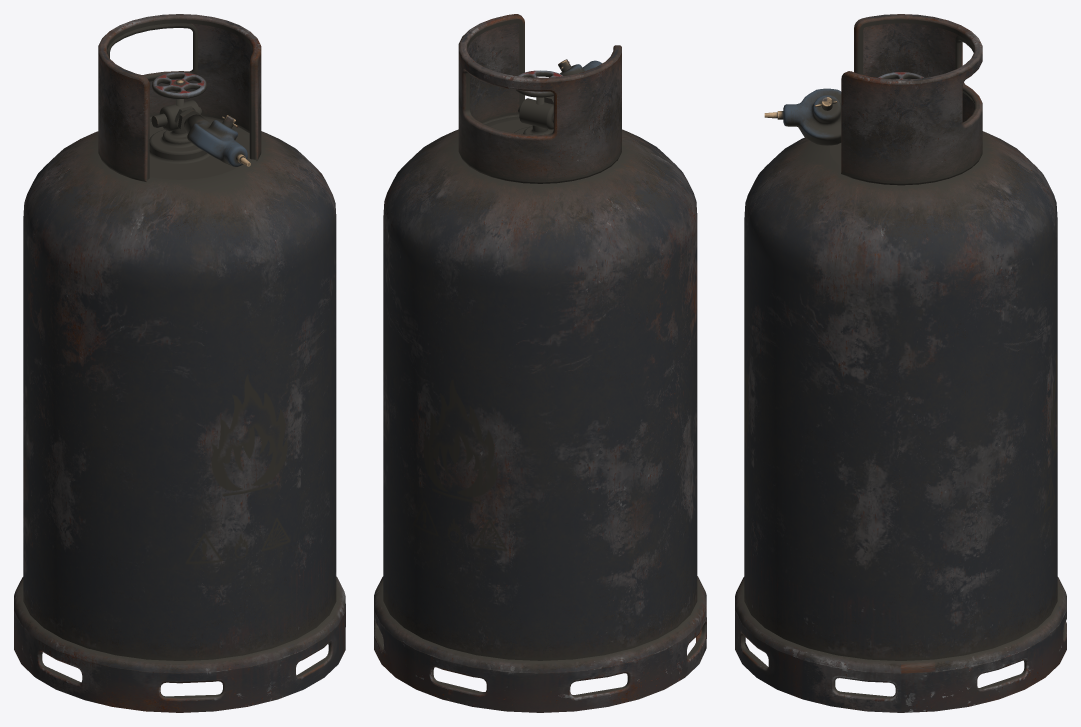
The model's file is gas_cylinder_10mb.glb.
3 renders of one model, left to right at view 1: azimuth 30°, elevation 25°; view 2: azimuth 150°, elevation 25°; view 3: azimuth 270°, elevation 25°, orthographic.
Parts seen in each view (by area): view 1: Cylinder_3; view 2: Cylinder_3; view 3: Cylinder_3.
Boxes of the visible parts, <box> form: Cylinder_3: <box>14,14,345,712</box>; Cylinder_3: <box>374,14,706,712</box>; Cylinder_3: <box>735,14,1066,712</box>.
Size of the model in its own units: 1 by 1.97 by 0.9945.
1 material, 1 textured.
